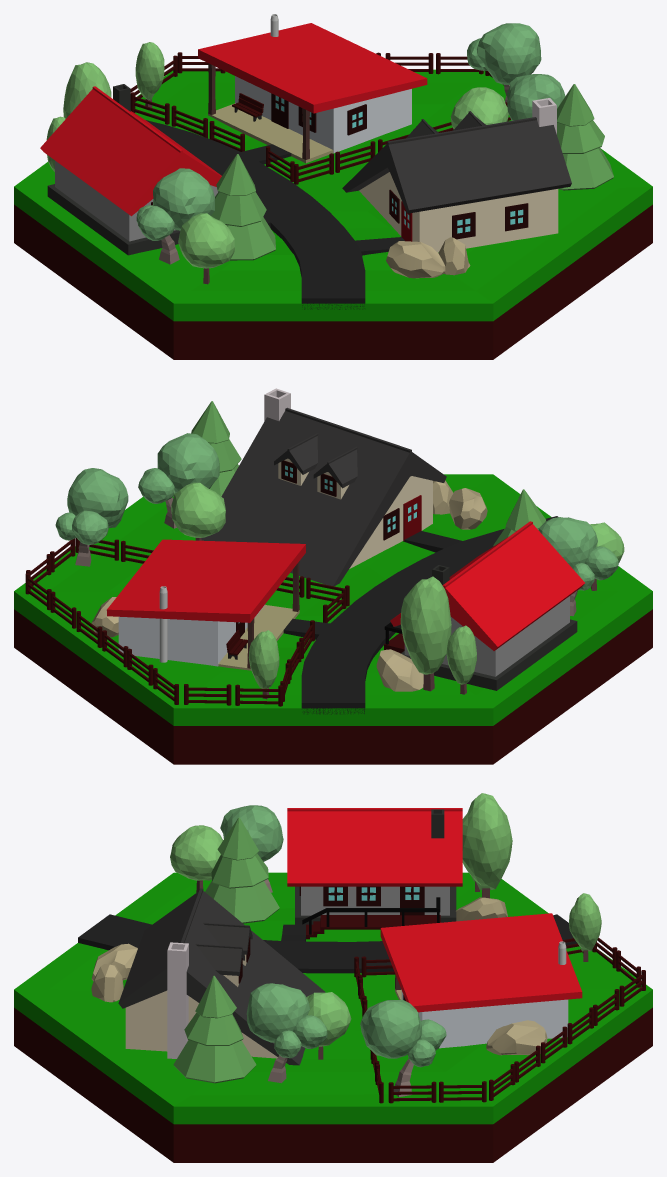
The model's file is S_hex01.fbx.
The picture shows the model from 3 angles, top to bottom: view 1: azimuth 30°, elevation 25°; view 2: azimuth 150°, elevation 25°; view 3: azimuth 270°, elevation 25°; orthographic projection.
Parts seen in each view (by area): view 1: Tráva, Hlina, Dom3, Dom1, Dom2, Cesta, Plot, Strom6, Strom4, Strom3, Strom, Strom5 (+6 smaller); view 2: Tráva, Dom3, Hlina, Dom1, Dom2, Cesta, Plot, Strom, Strom7, Strom2, Strom6, Strom1 (+9 smaller); view 3: Tráva, Hlina, Dom2, Dom1, Dom3, Plot, Cesta, Strom3, Strom2, Strom4, Strom, Strom7 (+8 smaller).
Boxes of the visible parts, x1,y1,x2,y2 form: Tráva: [14, 69, 652, 321]; Hlina: [14, 204, 652, 359]; Dom3: [342, 98, 571, 252]; Dom1: [198, 14, 427, 163]; Dom2: [40, 84, 221, 255]; Cesta: [146, 120, 404, 309]; Plot: [130, 52, 510, 184]; Strom6: [136, 168, 214, 264]; Strom4: [211, 154, 275, 260]; Strom3: [557, 84, 613, 190]; Strom: [467, 23, 541, 102]; Strom5: [178, 213, 234, 284]; Tráva: [14, 474, 652, 725]; Dom3: [201, 388, 446, 586]; Hlina: [14, 609, 652, 764]; Dom1: [106, 539, 305, 670]; Dom2: [384, 521, 584, 690]; Cesta: [283, 516, 558, 714]; Plot: [25, 538, 349, 706]; Strom: [55, 468, 128, 566]; Strom7: [400, 576, 451, 691]; Strom2: [138, 433, 219, 528]; Strom6: [538, 517, 618, 616]; Strom1: [171, 482, 225, 540]; Tráva: [14, 872, 652, 1124]; Hlina: [14, 1007, 652, 1162]; Dom2: [287, 808, 462, 939]; Dom1: [380, 913, 582, 1048]; Dom3: [118, 888, 325, 1065]; Plot: [354, 937, 645, 1103]; Cesta: [78, 914, 577, 973]; Strom3: [173, 975, 256, 1083]; Strom2: [246, 983, 327, 1083]; Strom4: [205, 817, 279, 923]; Strom: [360, 999, 446, 1096]; Strom7: [462, 793, 512, 898].
Size of the model in its own units: 2598 by 871 by 3000.
